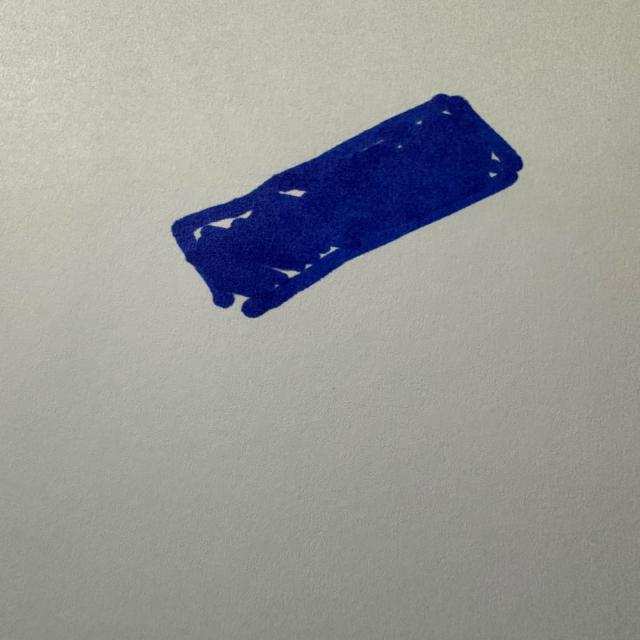Rectangle: (171, 94, 523, 318)
